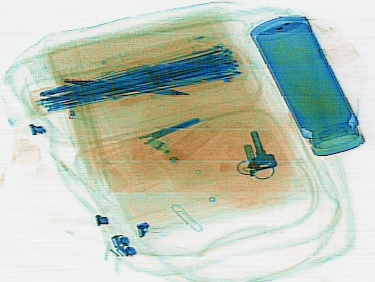scissors: (92, 116, 200, 165)
